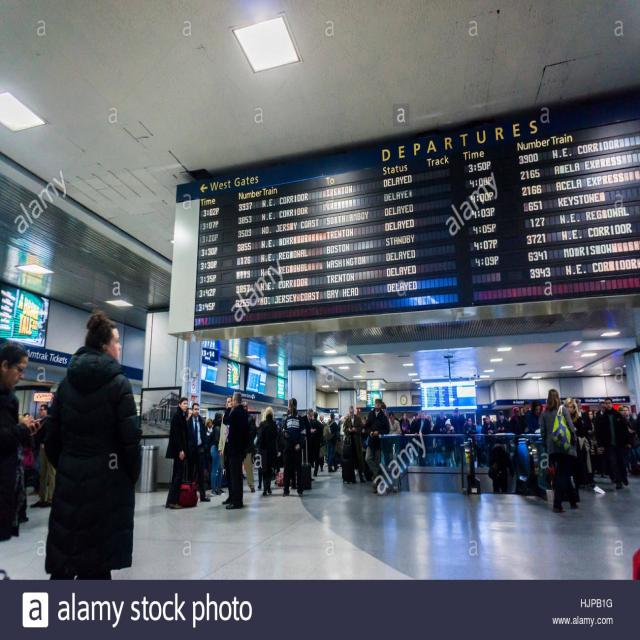body: (37, 308, 144, 581), (0, 333, 44, 547), (12, 384, 58, 524), (539, 387, 580, 516), (222, 391, 249, 510), (597, 397, 630, 490), (279, 396, 307, 497), (164, 395, 188, 512), (563, 396, 586, 503), (255, 404, 281, 498), (187, 402, 211, 502), (364, 398, 389, 489), (342, 405, 366, 484), (218, 394, 234, 510), (209, 414, 225, 496), (242, 401, 256, 494), (572, 397, 594, 452), (202, 416, 217, 494), (622, 405, 638, 478), (323, 412, 341, 473), (318, 413, 369, 434), (583, 410, 598, 475), (450, 407, 466, 467), (254, 410, 266, 490), (594, 401, 606, 478), (310, 411, 324, 476), (414, 410, 432, 459), (442, 418, 457, 468), (407, 407, 438, 430), (378, 396, 394, 437), (527, 398, 544, 436), (272, 444, 286, 488), (516, 400, 532, 434), (300, 407, 317, 437), (463, 416, 478, 443), (472, 419, 488, 443), (481, 413, 497, 436), (495, 410, 510, 434), (509, 405, 521, 435), (435, 409, 448, 435), (388, 412, 402, 436), (273, 413, 288, 435), (398, 411, 411, 434), (474, 419, 482, 449), (634, 410, 640, 439), (184, 405, 194, 421), (592, 408, 598, 419)
